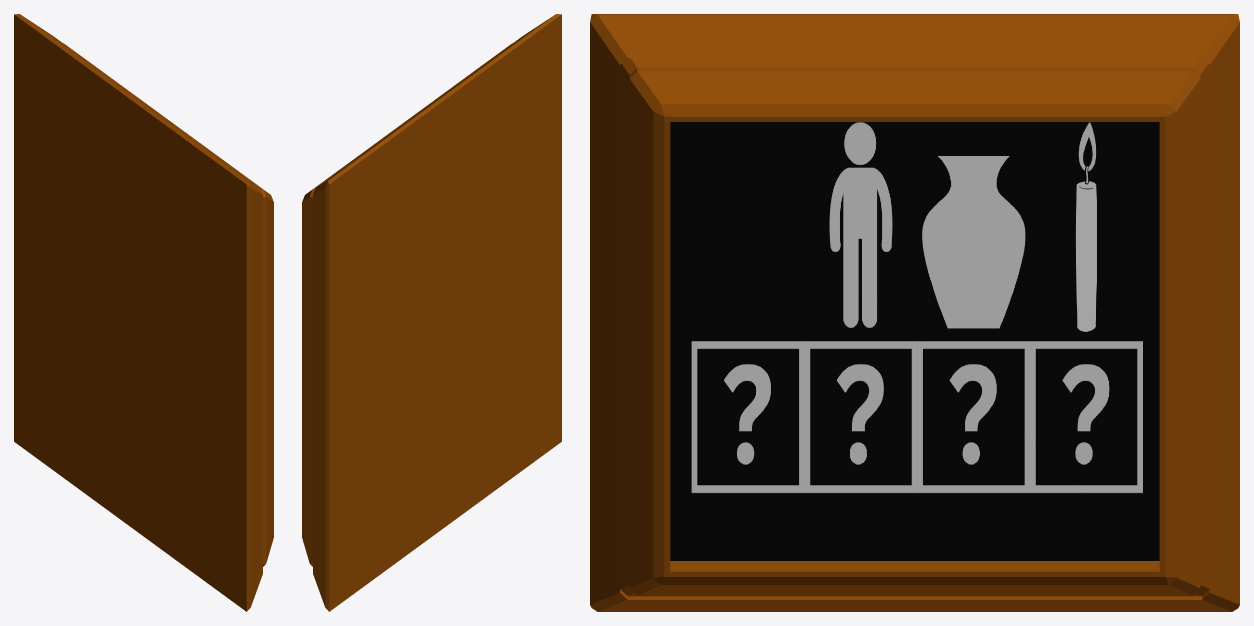
The model's file is Image_HintA3.glb.
The picture shows the model from 3 angles, left to right: view 1: azimuth 30°, elevation 25°; view 2: azimuth 150°, elevation 25°; view 3: azimuth 270°, elevation 25°; orthographic projection. The views are drawn at different scales.
Visible parts, largest first — view 1: Plane; view 2: Plane; view 3: Plane.
Boxes of the visible parts, left/top/right/bottom form: Plane: left=14, top=14, right=273, bottom=611; Plane: left=302, top=14, right=561, bottom=611; Plane: left=590, top=14, right=1239, bottom=611.
Size of the model in its own units: 0.0513 by 0.3996 by 0.3942.
2 materials, 1 textured.
